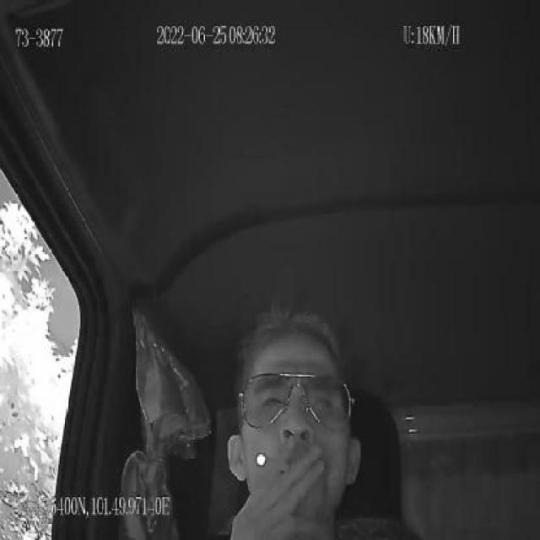smoking: (253, 444, 289, 477)
